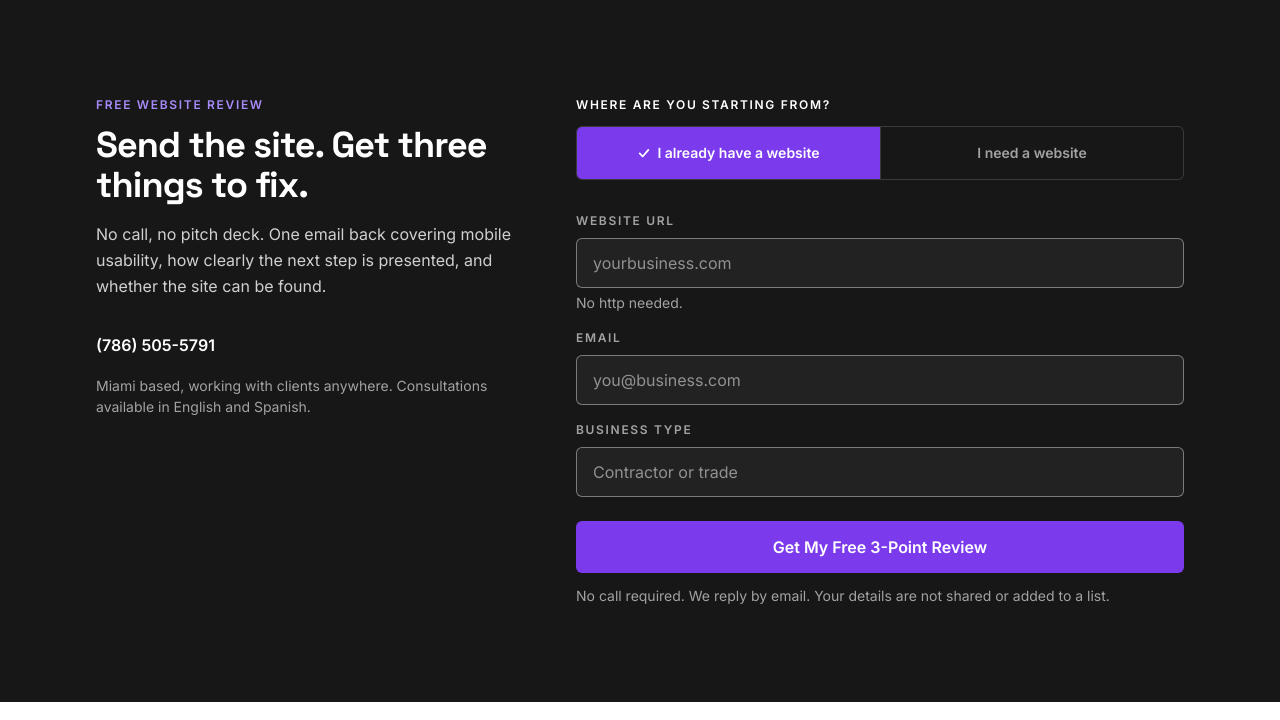
Test: website address validation › rejects yourbusiness and sends nothing
The width and height of the screenshot is (1280, 720).
In the field labelled "Website URL": coordinates (880, 263) [576,238,1184,288], type "yourbusiness"
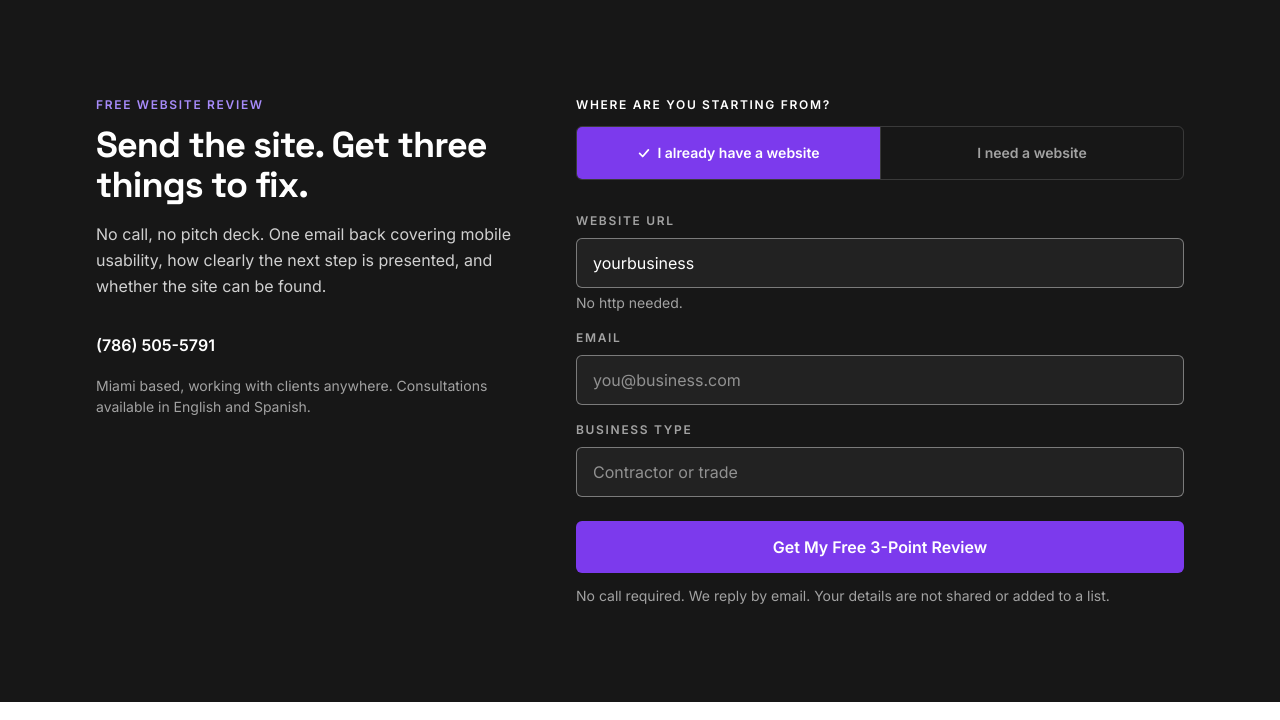
In the field labelled "Email": coordinates (880, 380) [576,355,1184,405], type "bob@site.com"
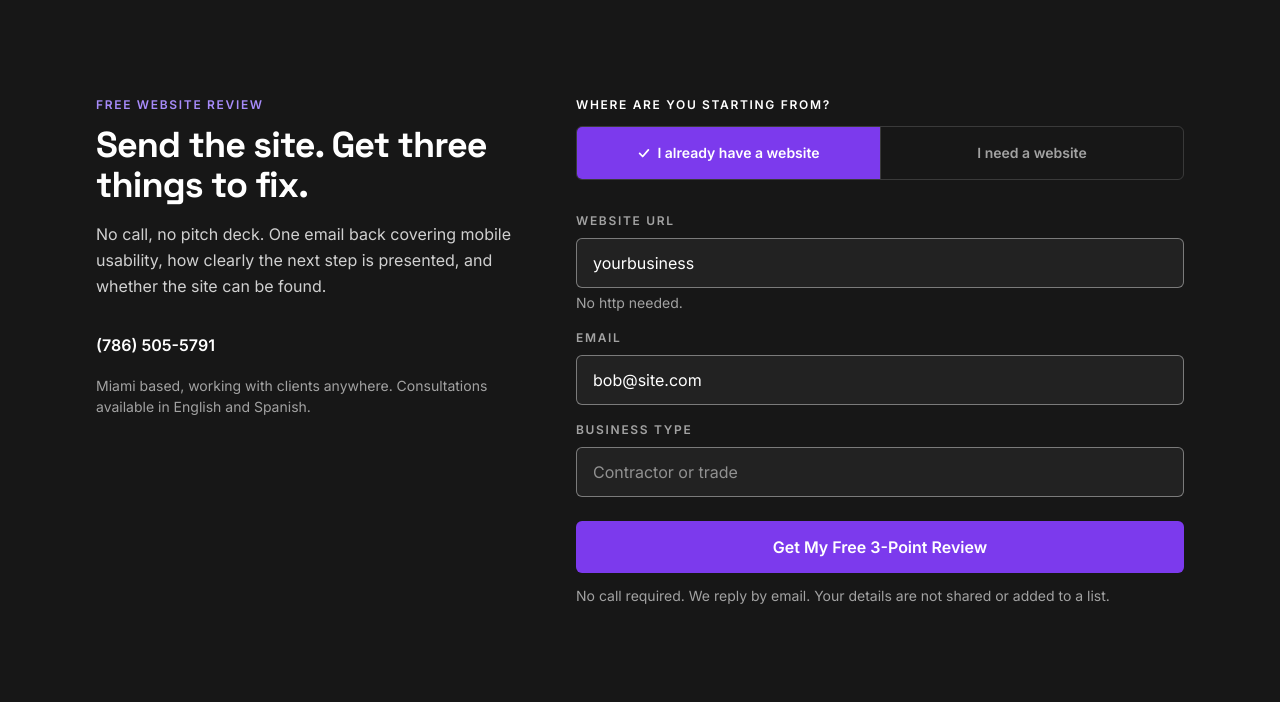
Click the button "Get My Free 3-Point Review": coordinates (880, 547) [576,521,1184,573]
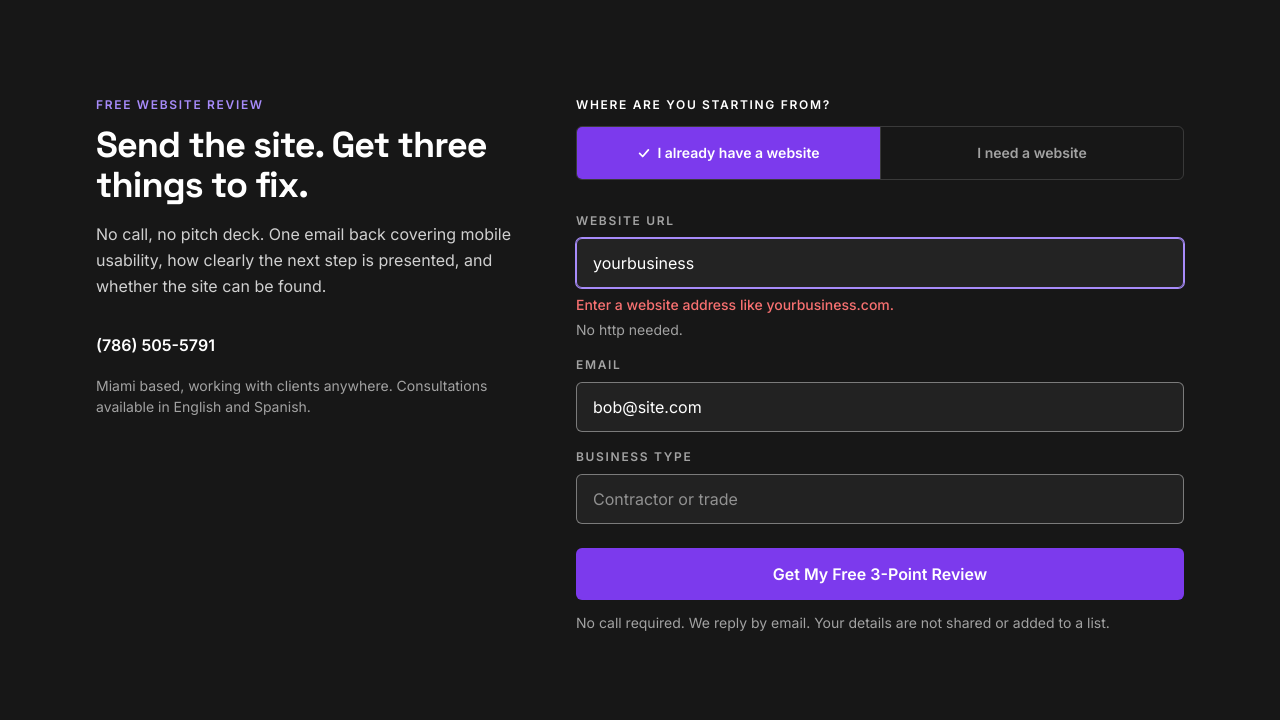
Expected: the text "Enter a website address like yourbusiness.com." is shown, [576,296,894,313]
